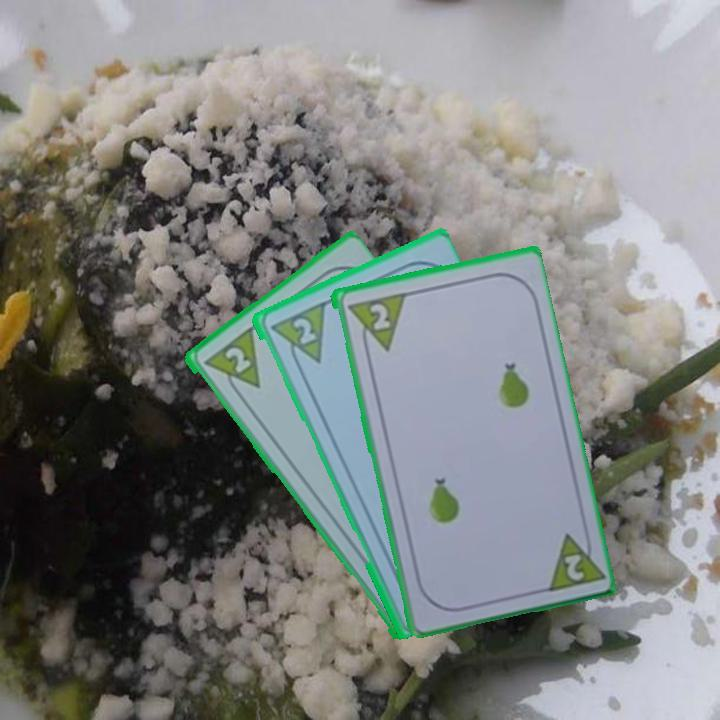2p: (199, 324, 263, 403), (343, 289, 407, 357), (288, 313, 319, 347), (560, 549, 587, 584)
